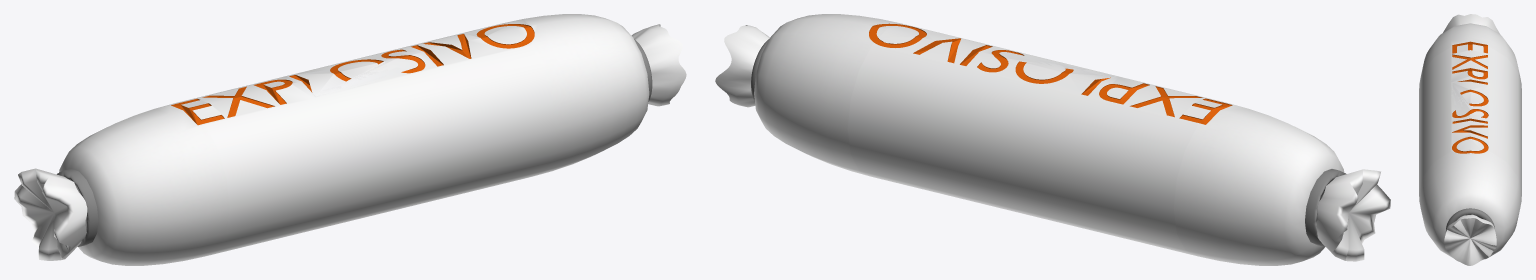
File: Dinamita_Gel_1.fbx
3 views of the same model, side by side, from view 1: azimuth 30°, elevation 25°; view 2: azimuth 150°, elevation 25°; view 3: azimuth 270°, elevation 25° (orthographic). The views are drawn at different scales.
Parts seen in each view (by area): view 1: Cylinder; view 2: Cylinder; view 3: Cylinder.
Boxes of the visible parts, x1,y1,x2,y2 form: Cylinder: (14, 14, 686, 265); Cylinder: (715, 14, 1390, 265); Cylinder: (1419, 14, 1521, 265).
Size of the model in its own units: 60.47 by 12.94 by 12.93.
Materials: 4 (2 with a texture image).
